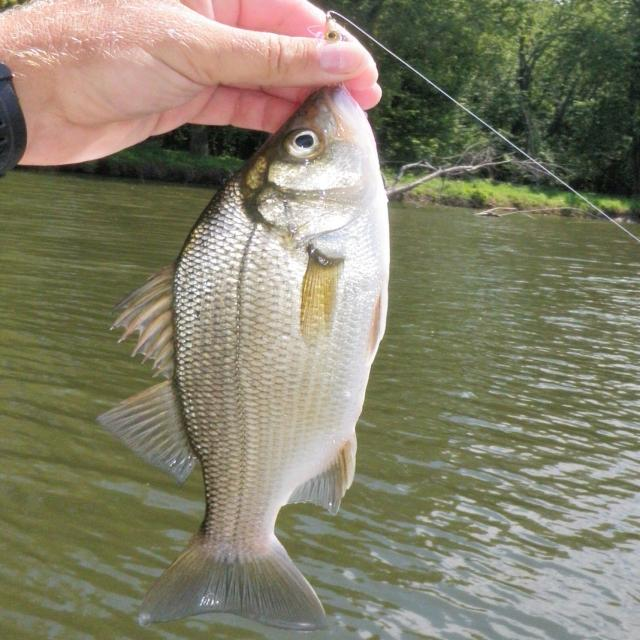Perch - White: (99, 85, 390, 630)
